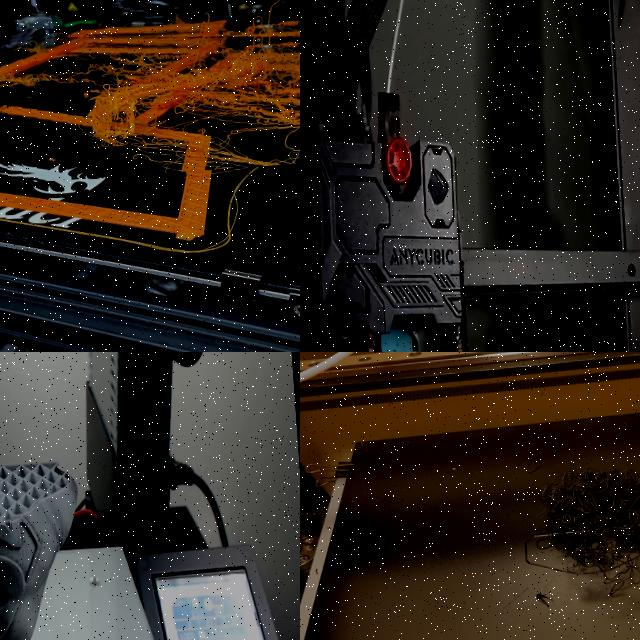spaghetti: (0, 33, 300, 172), (525, 470, 640, 601), (504, 447, 558, 483), (518, 588, 563, 614), (368, 489, 417, 512)
